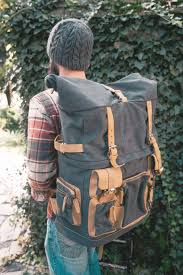backpack: (34, 62, 177, 246)
